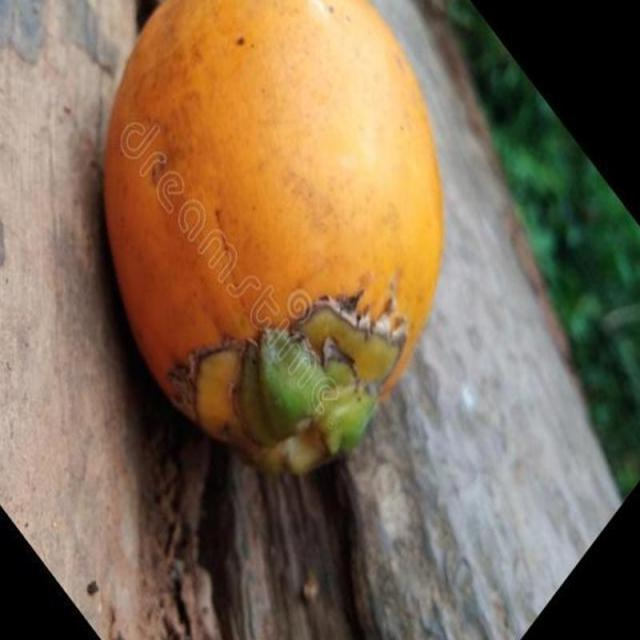good: (102, 0, 446, 478)
